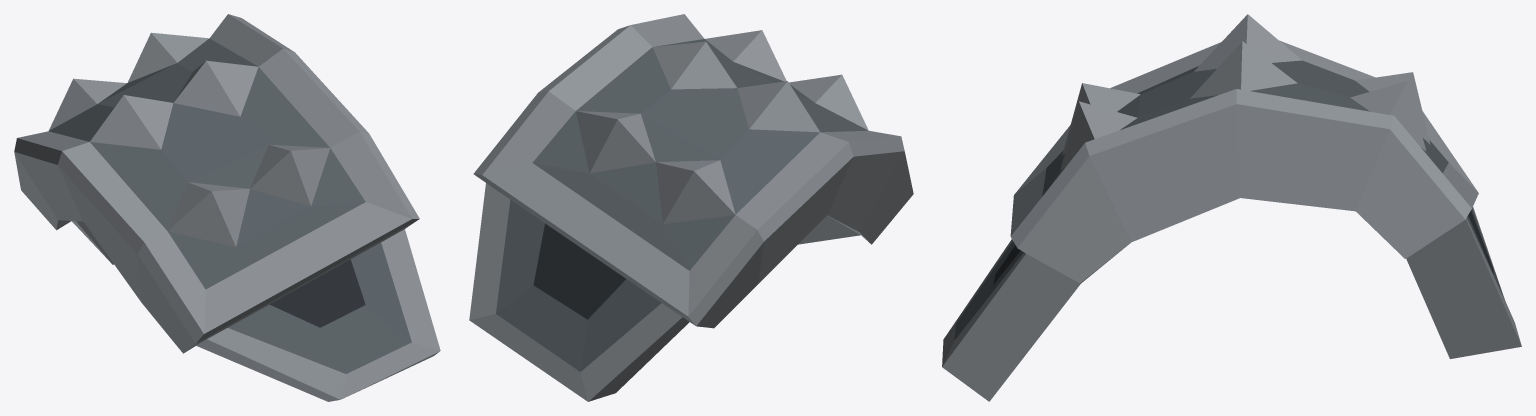
Rendered from Chr_ShoulderAttachRight_03_Static.fbx.
The picture shows the model from 3 angles, left to right: view 1: azimuth 30°, elevation 25°; view 2: azimuth 150°, elevation 25°; view 3: azimuth 270°, elevation 25°; orthographic projection. The views are drawn at different scales.
Visible parts, largest first — view 1: Chr_ShoulderAttachRight_03_Static; view 2: Chr_ShoulderAttachRight_03_Static; view 3: Chr_ShoulderAttachRight_03_Static.
Part boxes in pixels (box(x1,y1,x2,y2)): Chr_ShoulderAttachRight_03_Static: box(14, 14, 440, 401); Chr_ShoulderAttachRight_03_Static: box(469, 14, 913, 401); Chr_ShoulderAttachRight_03_Static: box(942, 14, 1521, 401).
Size of the model in its own units: 0.2194 by 0.2029 by 0.3294.
